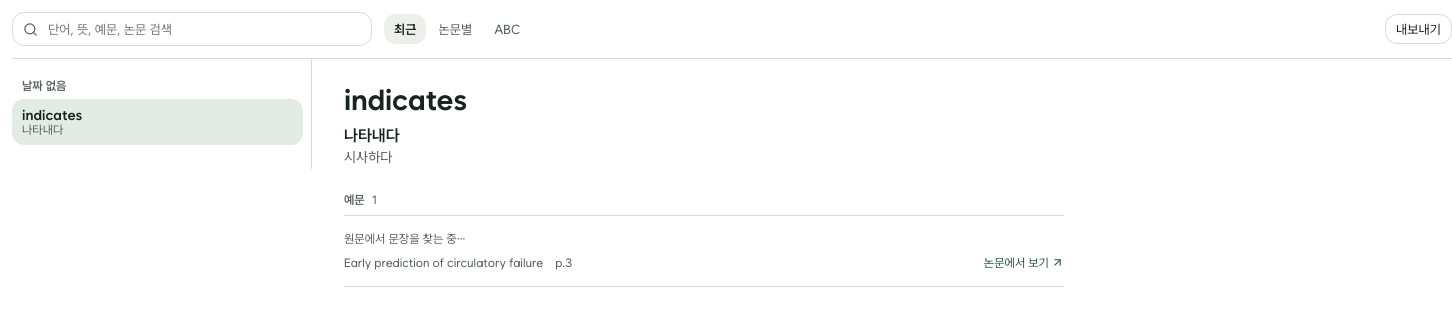
LibraryVocabulary › narrows the list by search and reports when nothing matches
The image size is (1452, 315).
Type "lactate" into the search field named "단어장 검색".
click(204, 29); type("lactate")  # box 46,20 -> 361,38
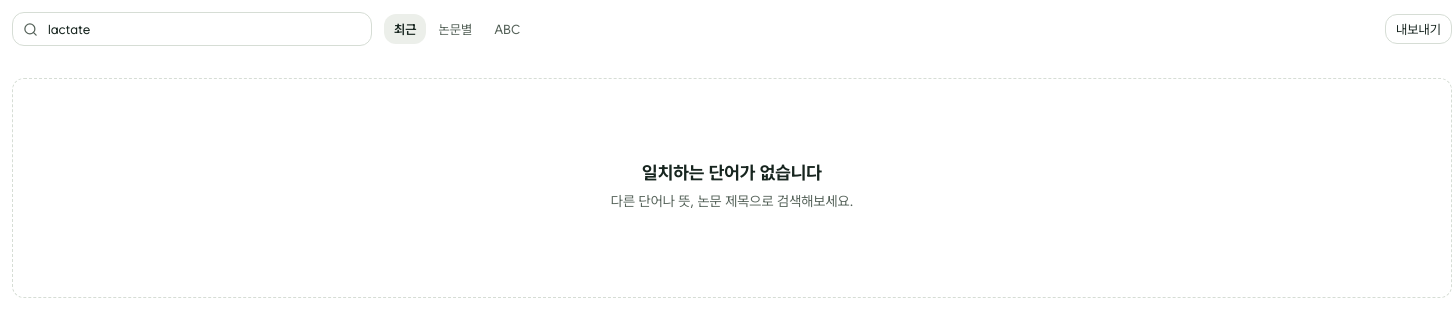
Result: the heading "일치하는 단어가 없습니다" is shown at 642,162 -> 822,183
